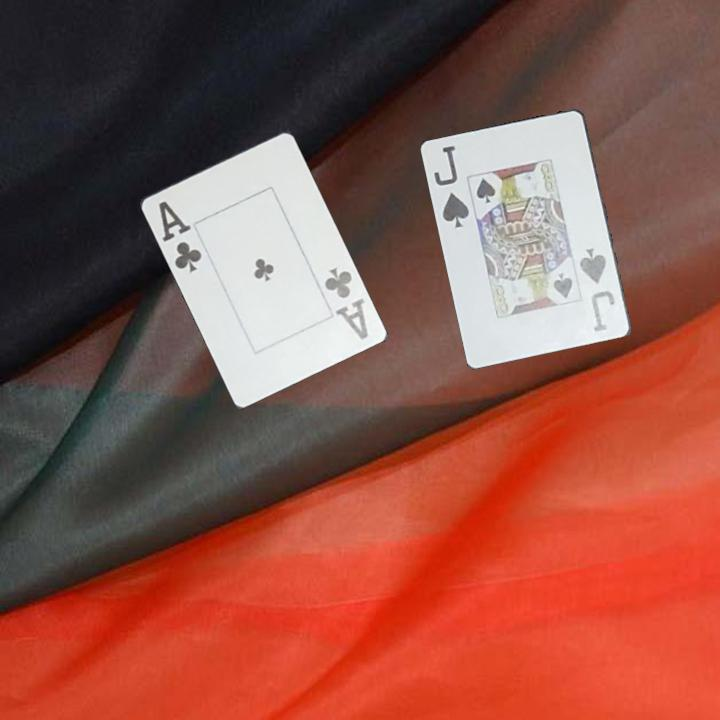Ac: (320, 263, 371, 343), (155, 197, 204, 276)
Js: (576, 245, 619, 336), (431, 142, 473, 231)
